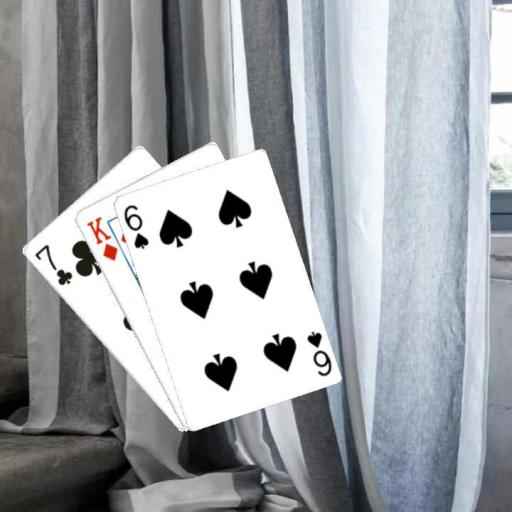6S: (303, 328, 333, 378), (120, 202, 150, 251)
7C: (31, 241, 74, 287)
KD: (83, 213, 119, 263)
